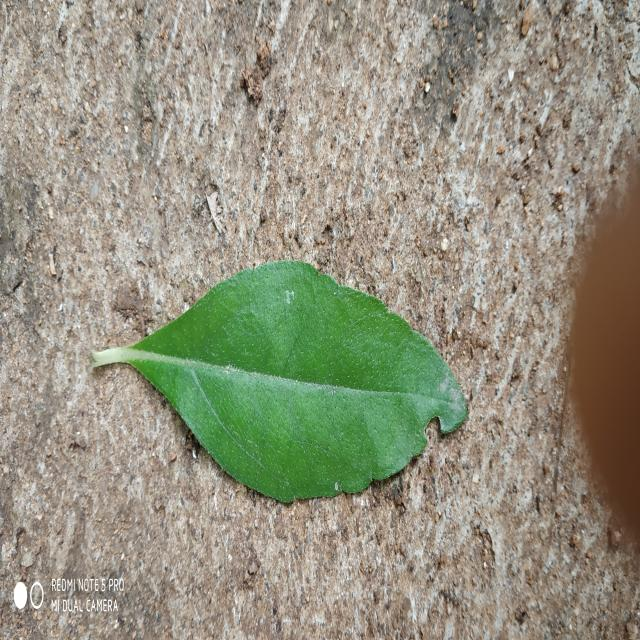bringaraja: (92, 260, 468, 502)
